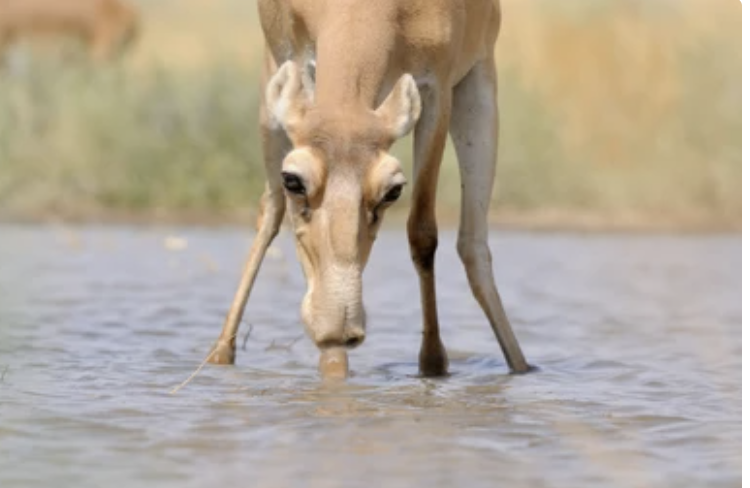saiga: (189, 1, 557, 387)
